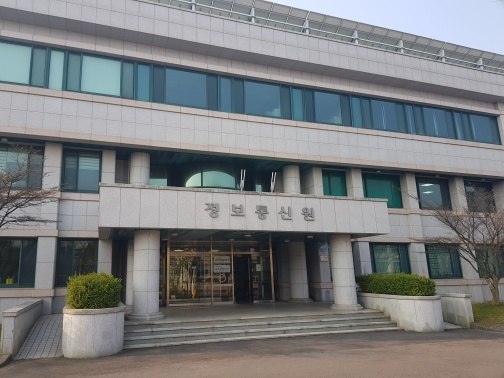Information Telecommunication Center: (2, 1, 496, 328), (106, 88, 395, 343), (183, 178, 322, 238)
